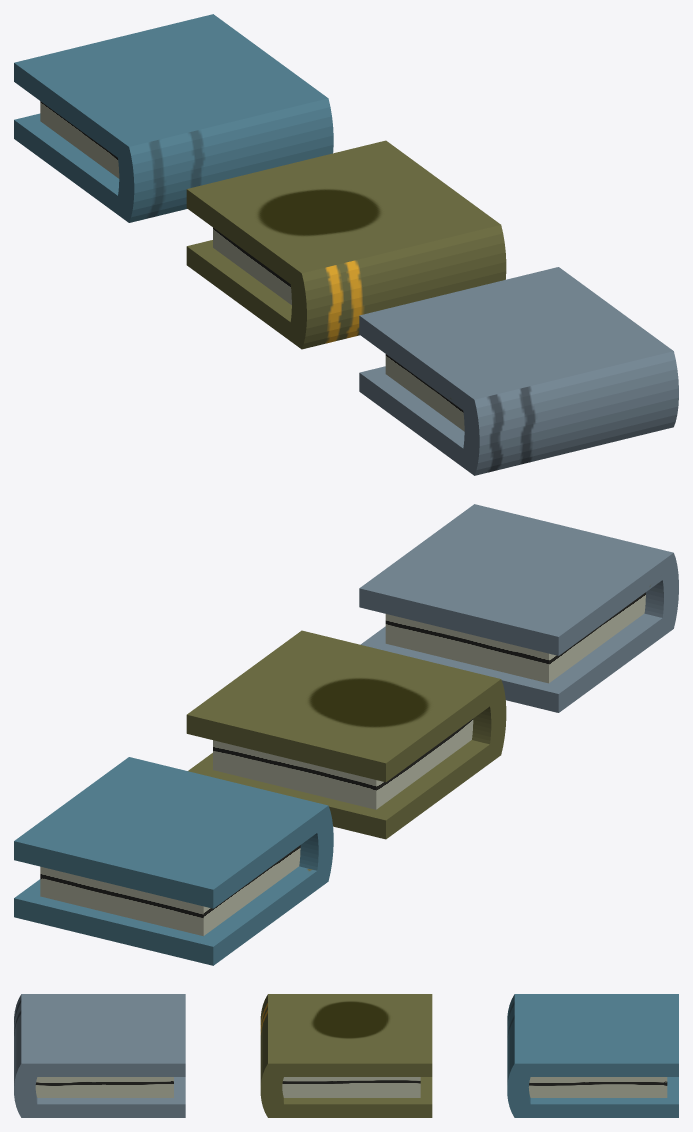
Rendered from Books.fbx.
The picture shows the model from 3 angles, top to bottom: view 1: azimuth 30°, elevation 25°; view 2: azimuth 150°, elevation 25°; view 3: azimuth 270°, elevation 25°; orthographic projection. The views are drawn at different scales.
Parts seen in each view (by area): view 1: Book.002, Book, Book.001, BookBlock.002, BookBlock.001, BookBlock; view 2: Book.001, Book, Book.002, BookBlock.002, BookBlock.001, BookBlock; view 3: Book, Book.002, Book.001, BookBlock.001, BookBlock, BookBlock.002.
Boxes of the visible parts, x1,y1,x2,y2 form: Book.002: (359, 267, 678, 475); Book: (186, 140, 506, 349); Book.001: (14, 14, 333, 222); BookBlock.002: (385, 354, 464, 431); BookBlock.001: (40, 101, 119, 178); BookBlock: (213, 227, 291, 304); Book.001: (14, 757, 333, 965); Book: (186, 630, 506, 839); Book.002: (359, 504, 678, 712); BookBlock.002: (385, 592, 645, 683); BookBlock.001: (40, 845, 300, 936); BookBlock: (213, 719, 473, 809); Book: (260, 994, 432, 1117); Book.002: (14, 994, 185, 1117); Book.001: (507, 994, 678, 1117); BookBlock.001: (528, 1077, 667, 1097); BookBlock: (282, 1077, 420, 1097); BookBlock.002: (35, 1077, 173, 1097).
Bounding box in the file's own units: 200 × 72.98 × 809.
Materials: 1 (1 with a texture image).
